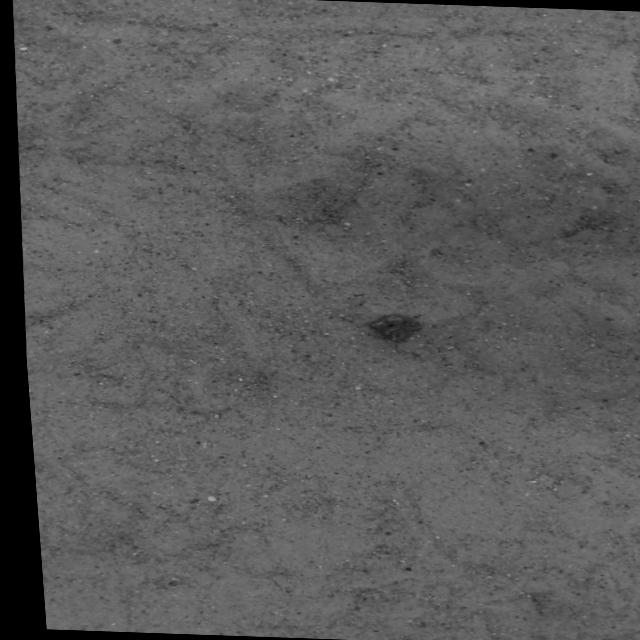rock: (363, 315, 416, 342)
